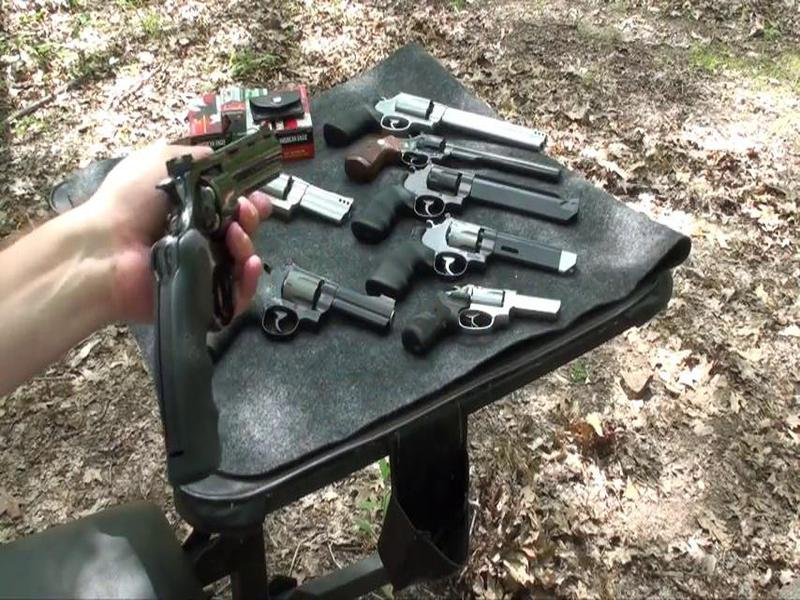Revolver: (132, 129, 317, 462)
